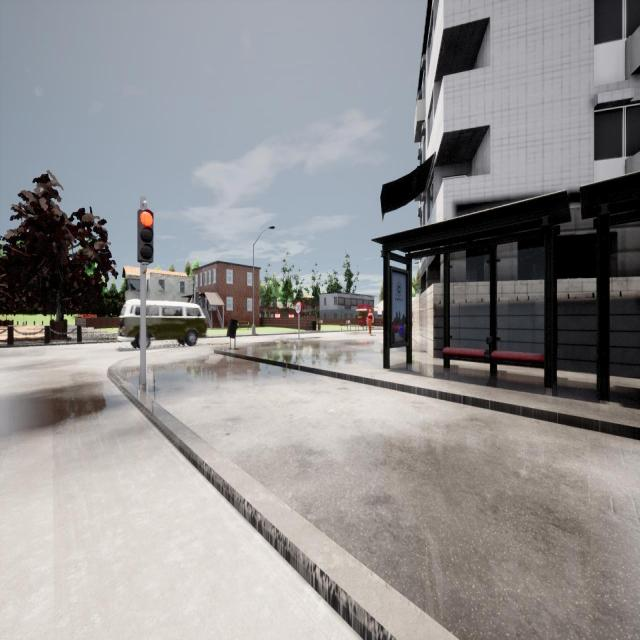Pedestrian: (366, 309, 374, 336)
Traffic_Signs: (295, 301, 302, 315)
Vehicle: (119, 300, 209, 346)
traffic_light: (138, 210, 154, 262)
